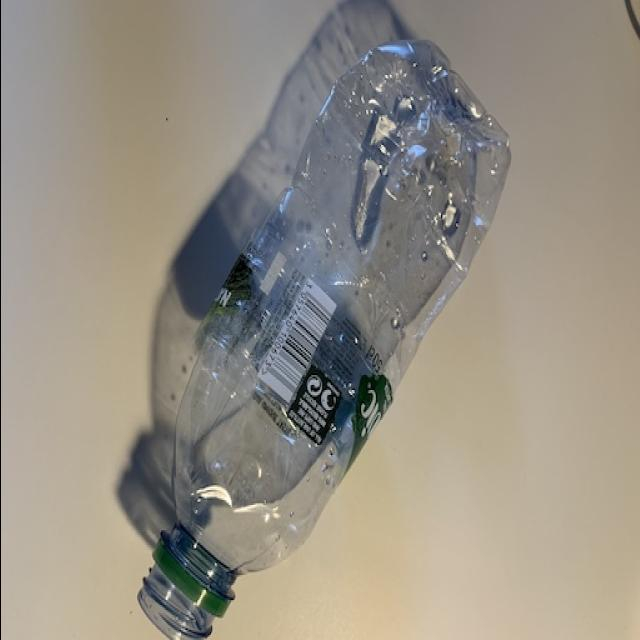litter: (130, 31, 514, 636)
